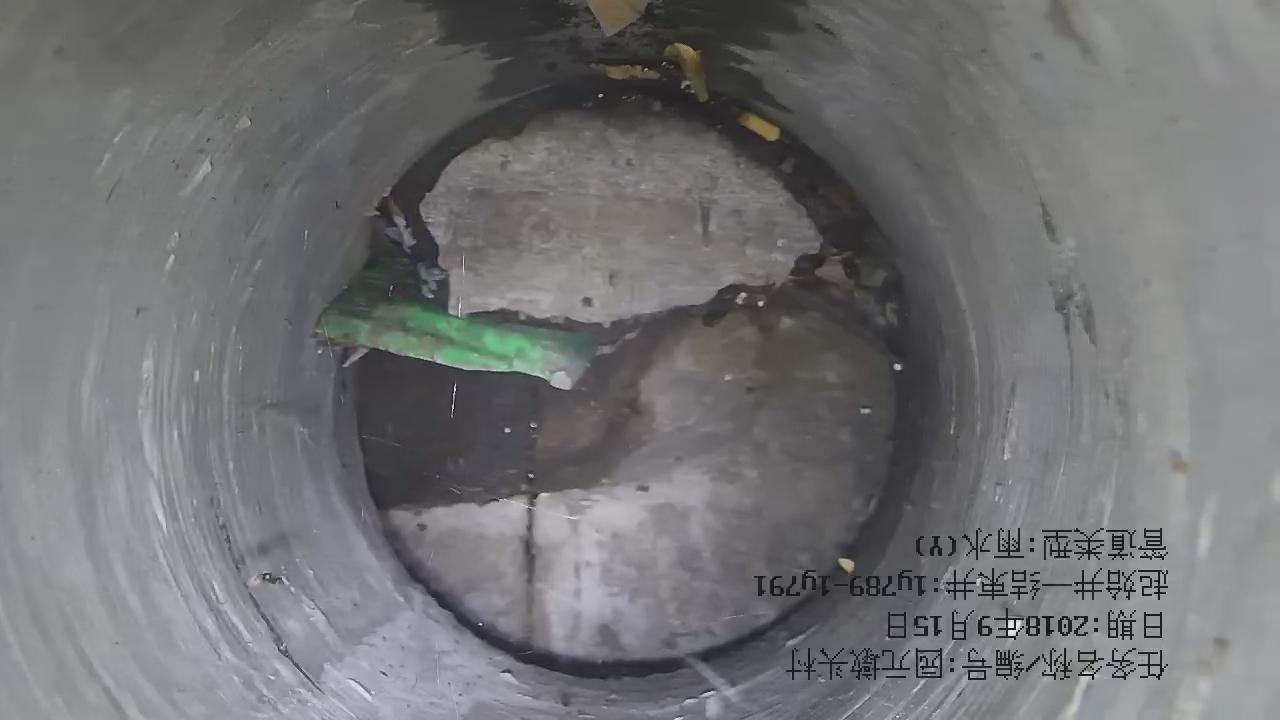ZAW: (316, 96, 821, 390)
